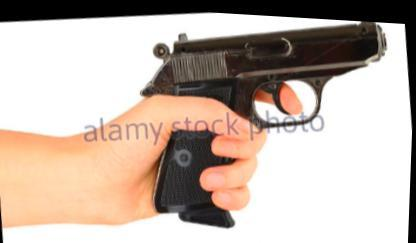pistol: (127, 6, 407, 233)
